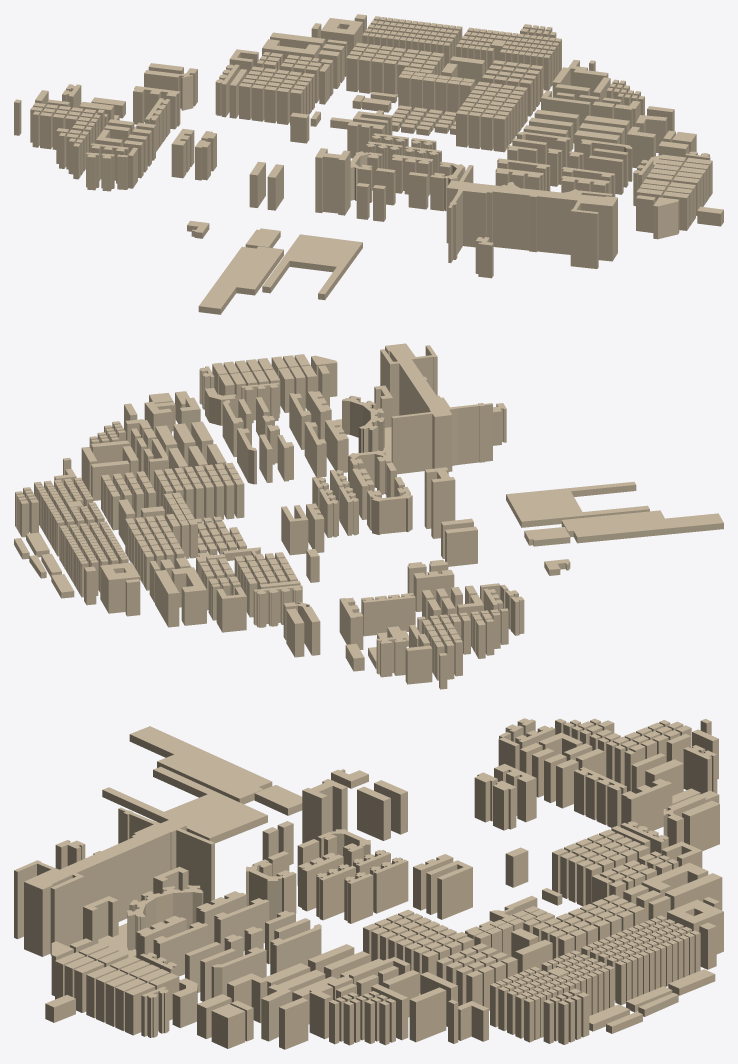
Rendered from -15_3-estimated-coarse.glb.
The picture shows the model from 3 angles, top to bottom: view 1: azimuth 30°, elevation 25°; view 2: azimuth 150°, elevation 25°; view 3: azimuth 270°, elevation 25°; orthographic projection. The views are drawn at different scales.
Size of the model in its own units: 1117 by 111 by 1059.
